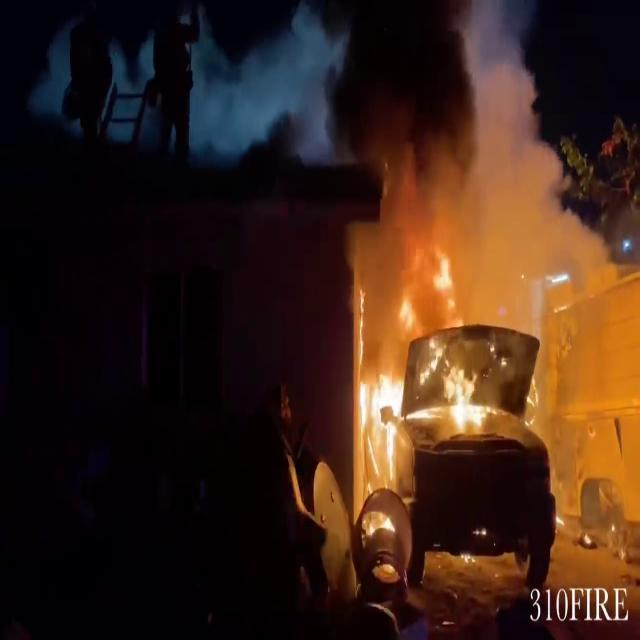Fire: (357, 241, 490, 488)
Smoke: (288, 0, 614, 318)
